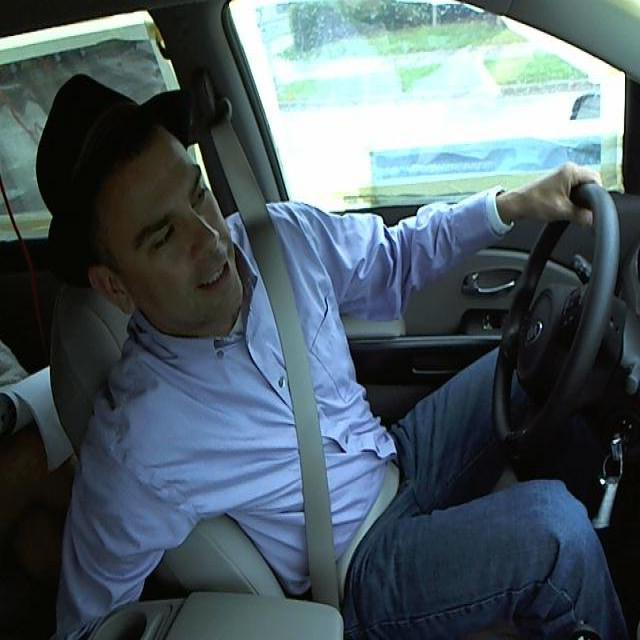seatbelt: (251, 245, 359, 596)
